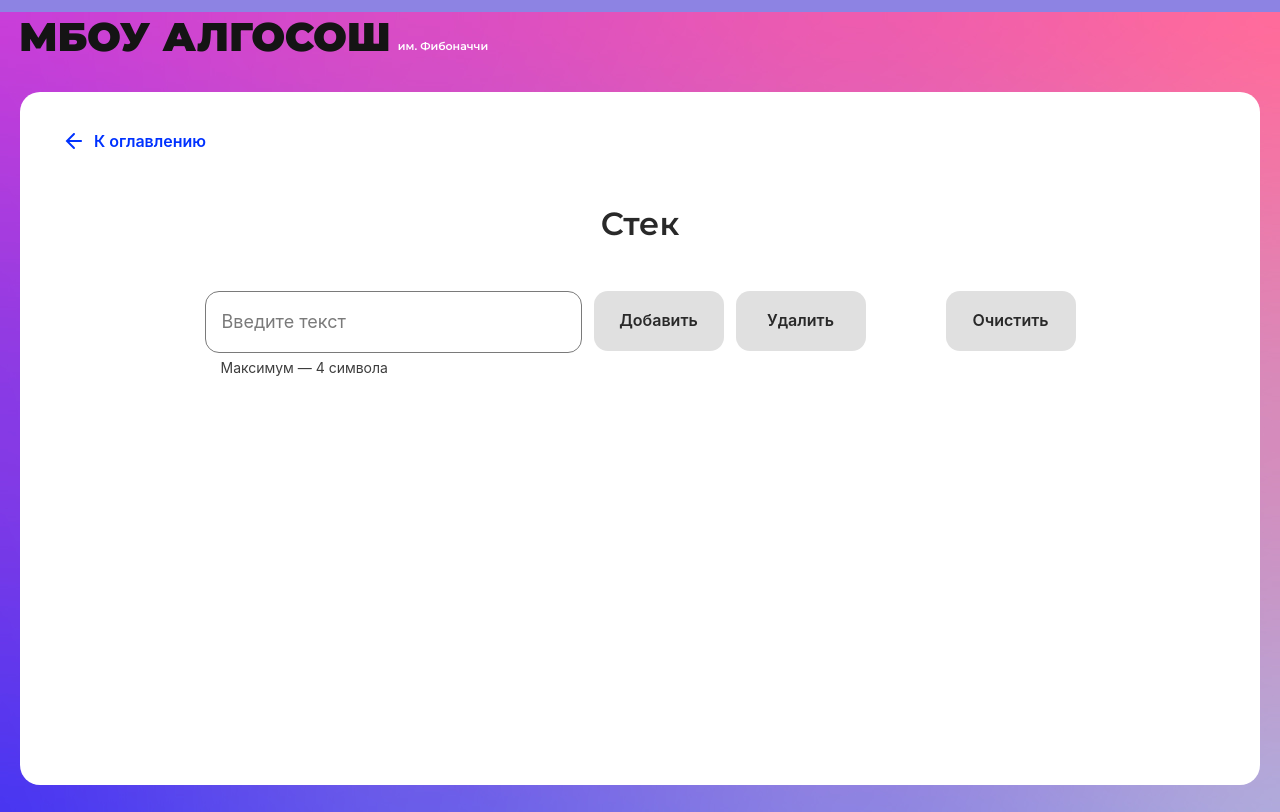
Test: Stack component tests › fill input with some value should activate button
Step 1. Type "5" into the field with test id "input" → (394, 322), box [205,291,582,353]
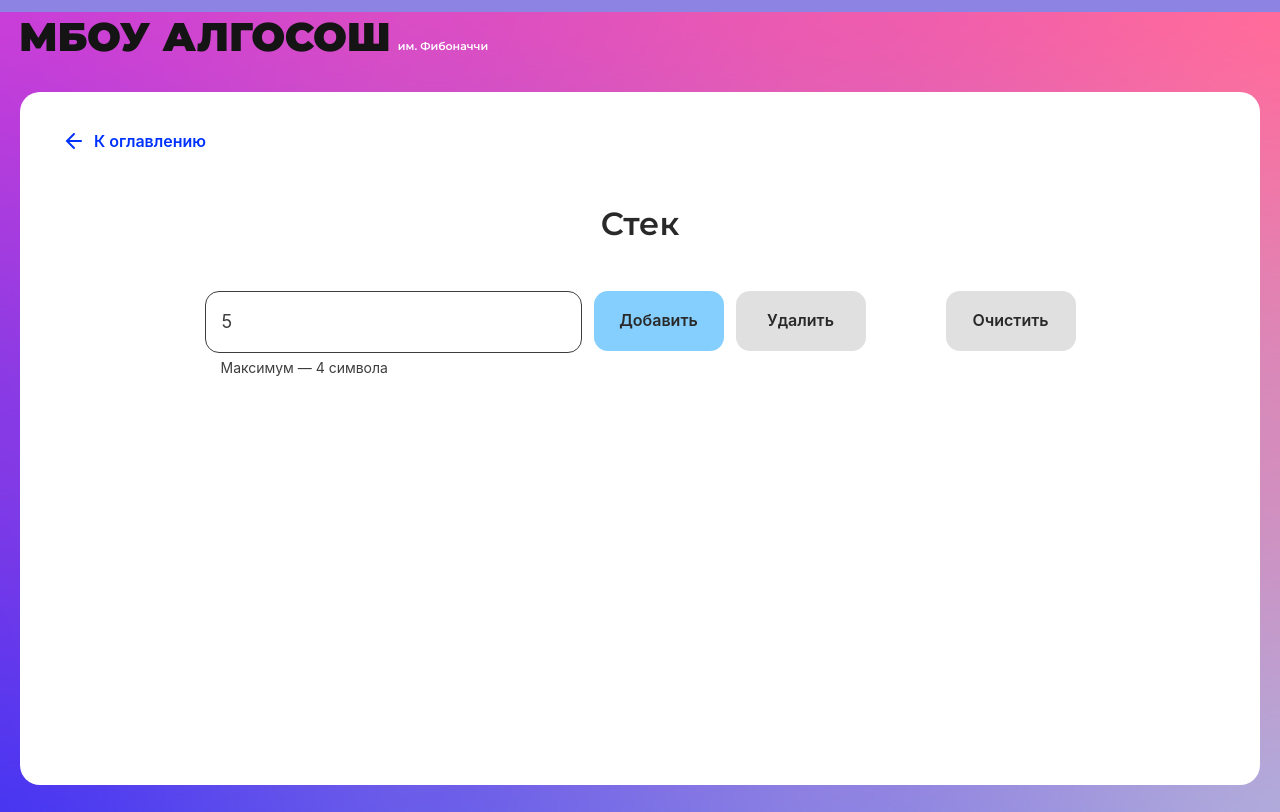
expect the button with test id "add" is enabled: met, box [594,291,724,351]
